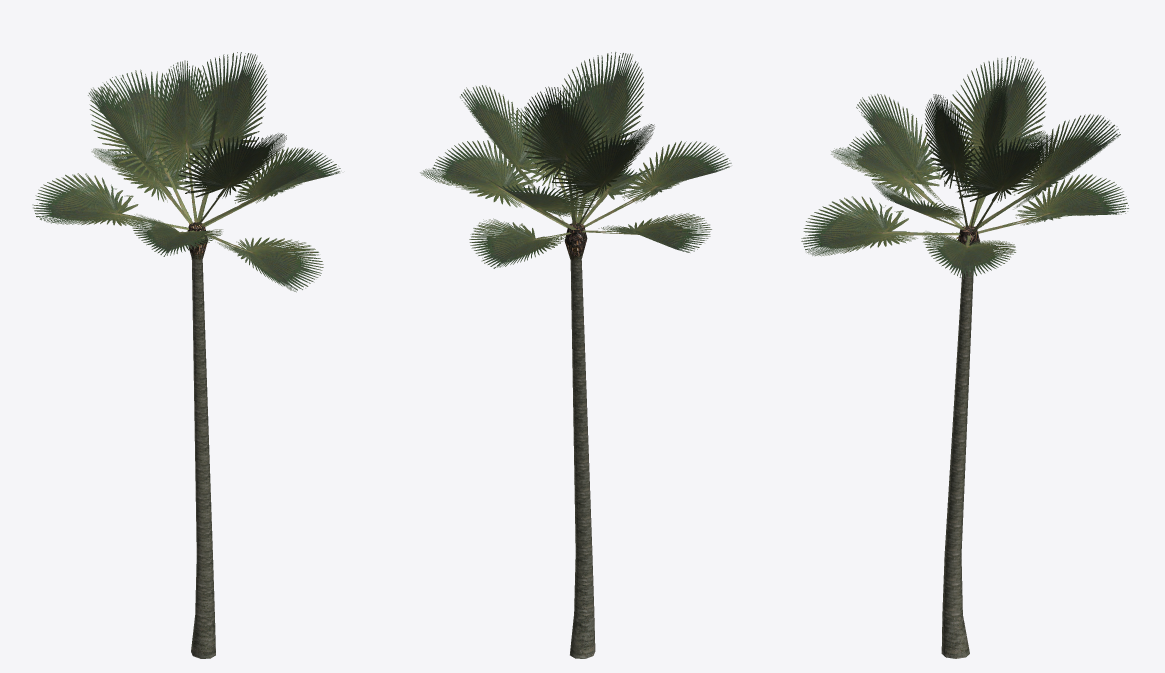
The model's file is ever_palmtree_med_l0.fbx.
3 renders of one model, left to right at view 1: azimuth 30°, elevation 25°; view 2: azimuth 150°, elevation 25°; view 3: azimuth 270°, elevation 25°, orthographic. The views are drawn at different scales.
Visible parts, largest first — view 1: mesh_node; view 2: mesh_node; view 3: mesh_node.
Part boxes in pixels (left/top/right/bottom): mesh_node: left=32, top=52, right=340, bottom=658; mesh_node: left=420, top=52, right=731, bottom=658; mesh_node: left=801, top=56, right=1128, bottom=658.
Size of the model in its own units: 10.49 by 18.77 by 10.49.
3 materials, 3 textured.
